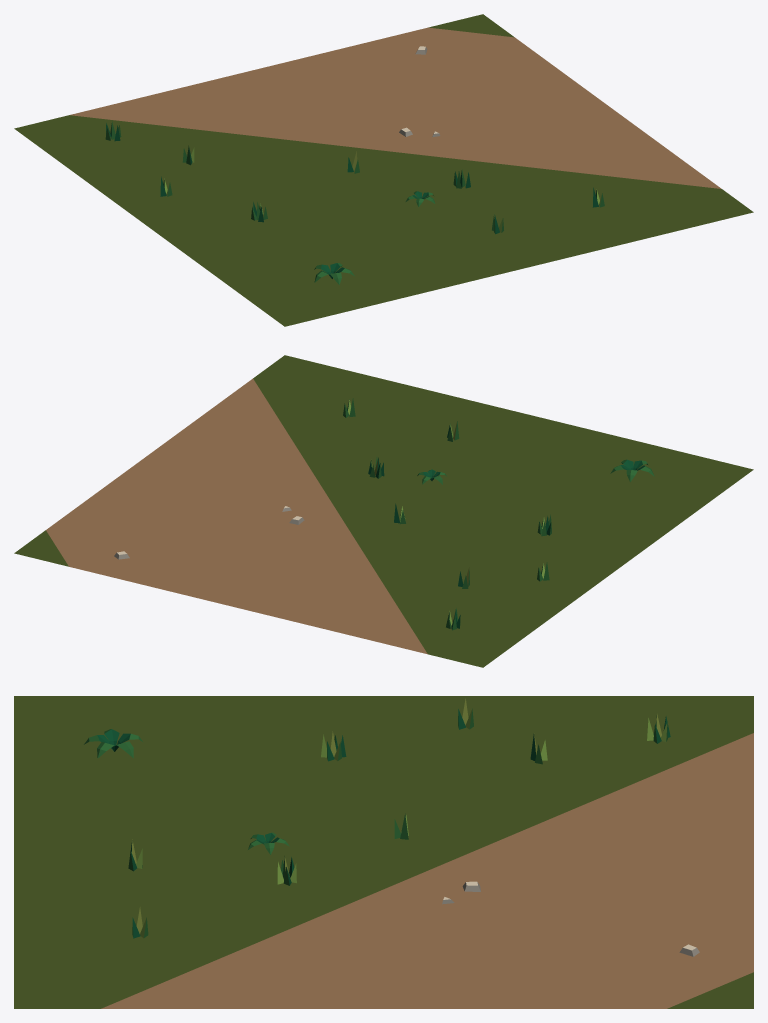
The model's file is TB_Env_GroundEB.FBX.
The picture shows the model from 3 angles, top to bottom: view 1: azimuth 30°, elevation 25°; view 2: azimuth 150°, elevation 25°; view 3: azimuth 270°, elevation 25°; orthographic projection. The views are drawn at different scales.
Visible parts, largest first — view 1: TB_Env_GroundEB; view 2: TB_Env_GroundEB; view 3: TB_Env_GroundEB.
Part boxes in pixels (<box>): TB_Env_GroundEB: <box>14,14,753,326</box>; TB_Env_GroundEB: <box>14,355,753,667</box>; TB_Env_GroundEB: <box>14,696,753,1008</box>.
Bounding box in the file's own units: 10 × 0.394 × 10.
